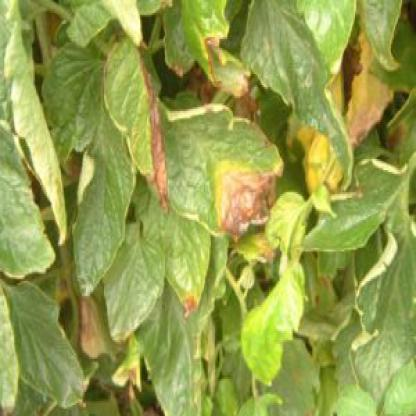Tomato mold leaf: (106, 43, 288, 256), (46, 35, 142, 294), (1, 278, 97, 410), (300, 156, 408, 262)
